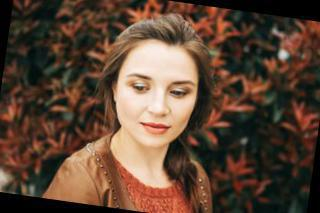Sober: (123, 49, 194, 138)
